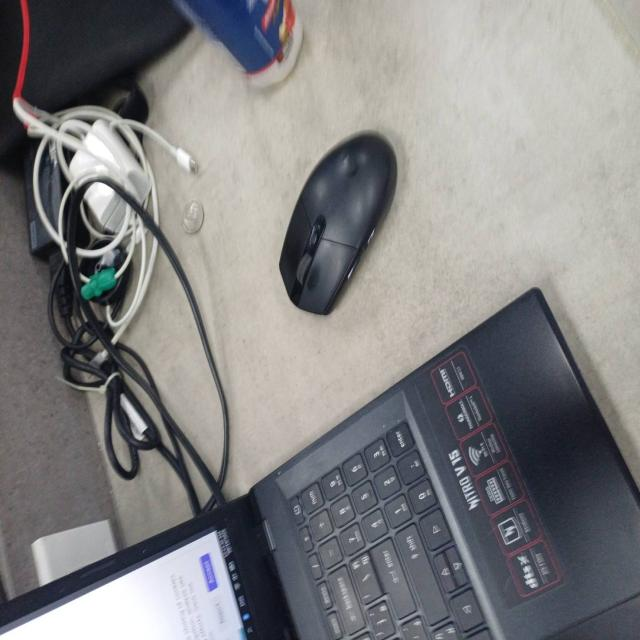mouse: (273, 127, 400, 320)
